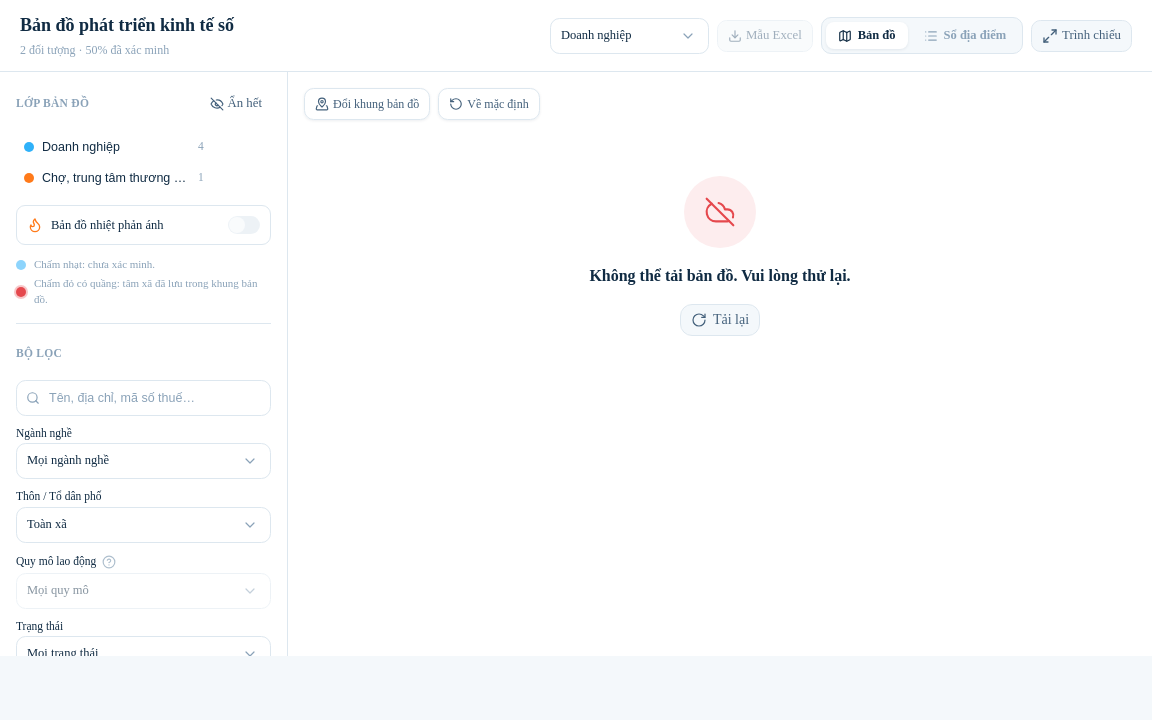
Test: frame form — source, hints, limits › dialog: prefilled from the commune frame, says whose frame is in effect, shows the default and the server's hint
Step 1. Click the button "Đổi khung bản đồ" → (367, 104), box [304, 88, 430, 120]
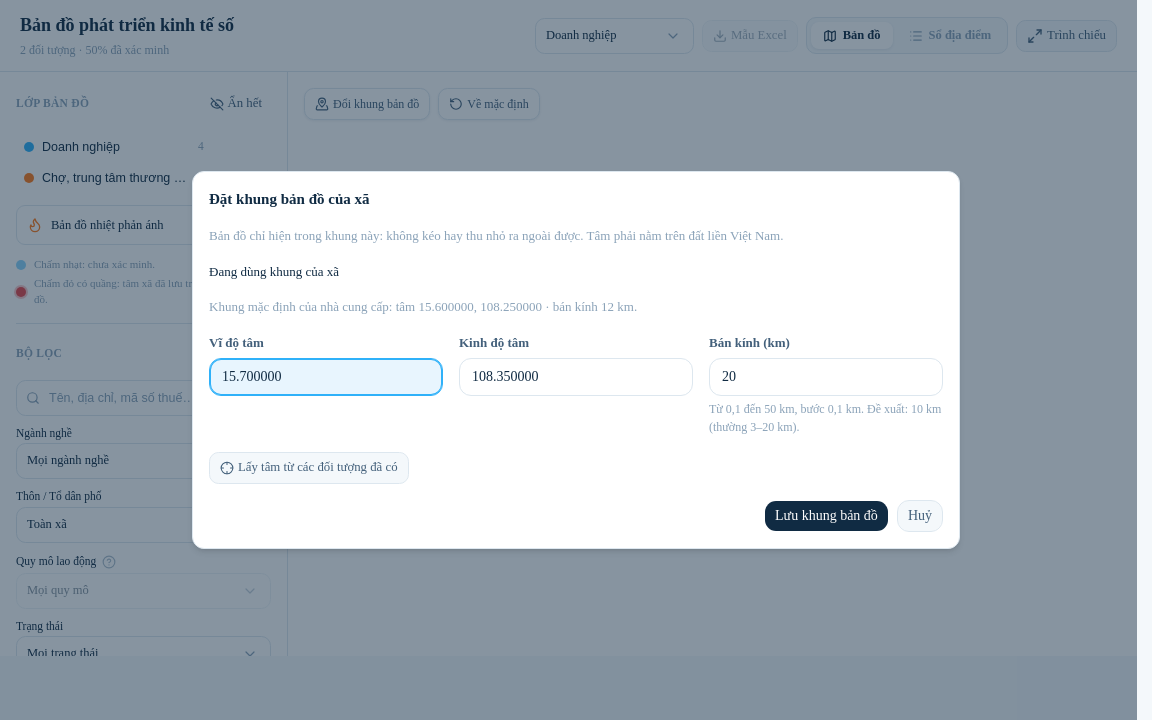
Check: the field with id "frame-radius" holds "20", box [709, 358, 943, 396]
Check: the text "Đang dùng khung của xã" is shown, box [209, 264, 339, 279]
Check: the text "bán kính 12 km" is shown, box [209, 300, 637, 314]
